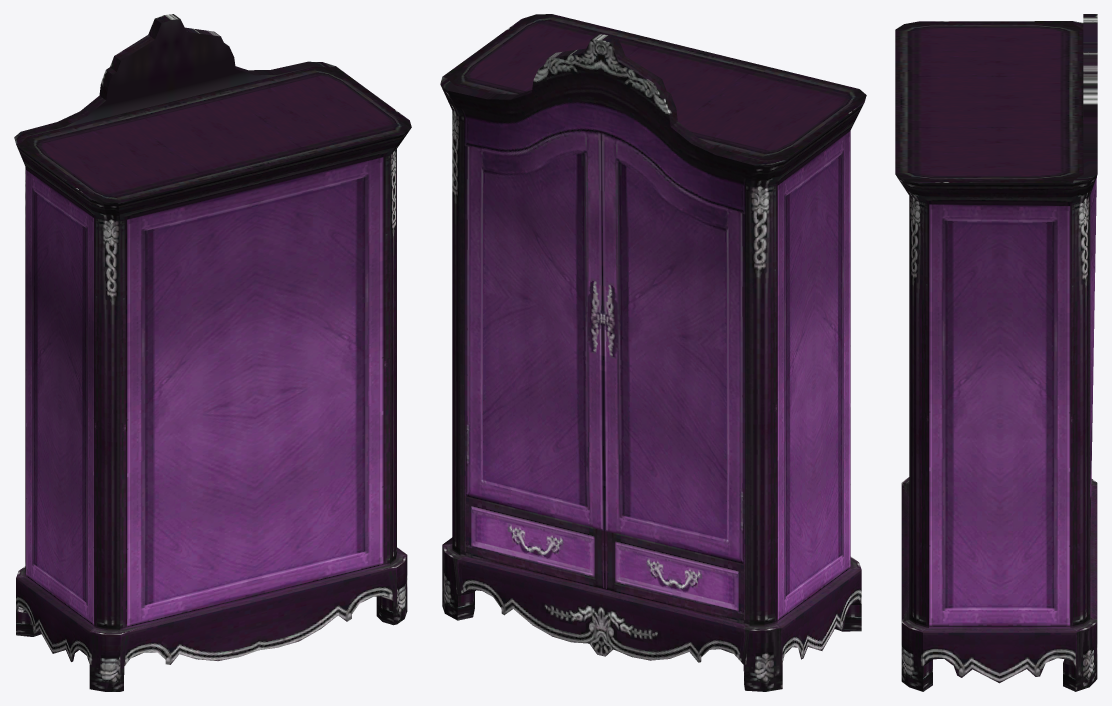
File: furni_0201218_02.FBX
3 renders of one model, left to right at view 1: azimuth 30°, elevation 25°; view 2: azimuth 150°, elevation 25°; view 3: azimuth 270°, elevation 25°, orthographic. The views are drawn at different scales.
Parts seen in each view (by area): view 1: furni_0201218_02; view 2: furni_0201218_02; view 3: furni_0201218_02.
Boxes of the visible parts, <box> form: furni_0201218_02: <box>14,14,411,691</box>; furni_0201218_02: <box>440,14,866,691</box>; furni_0201218_02: <box>895,14,1097,691</box>.
Bounding box in the file's own units: 169 × 290 × 89.31.
